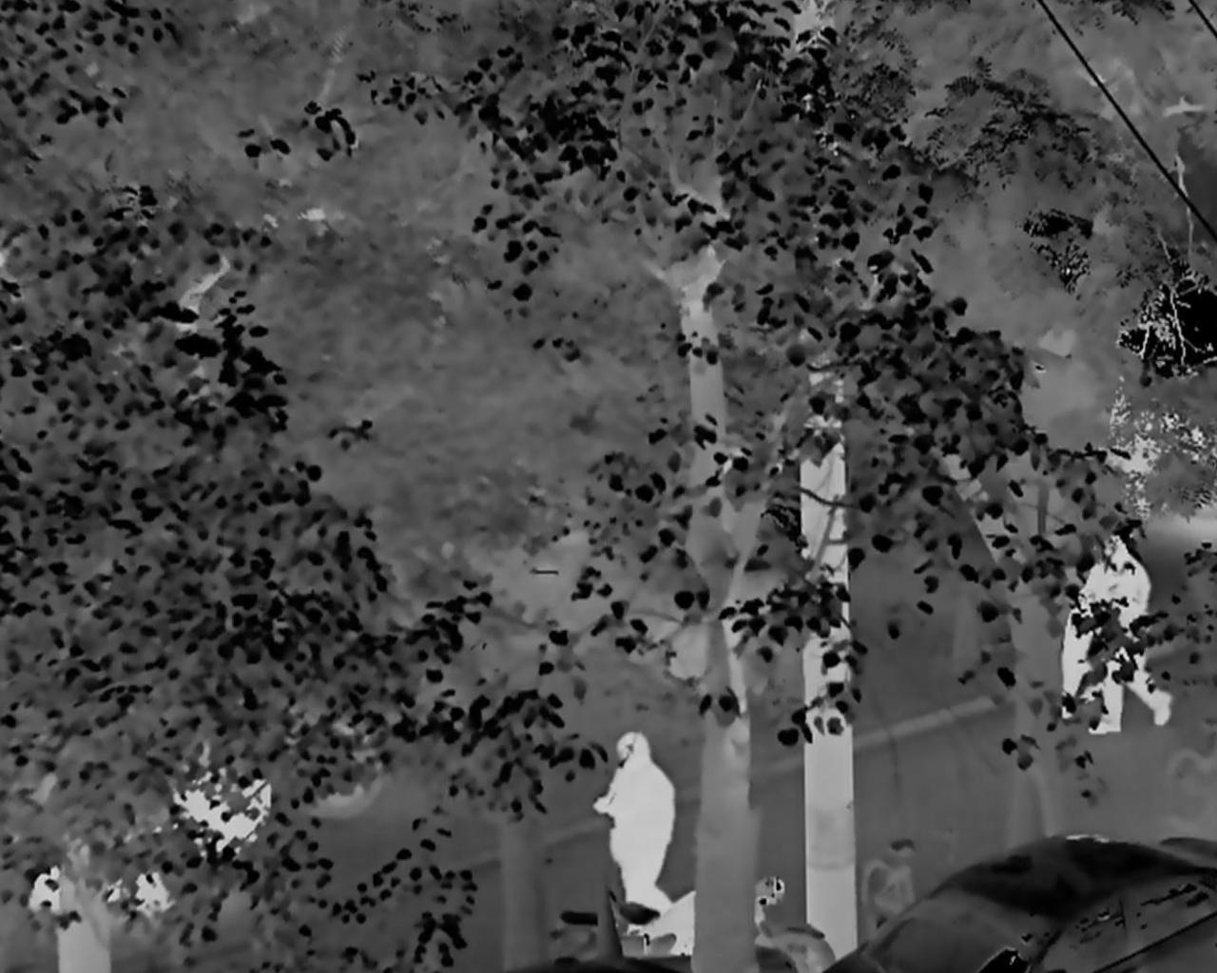person: (592, 729, 677, 939), (1088, 536, 1172, 736), (1060, 532, 1103, 721)
